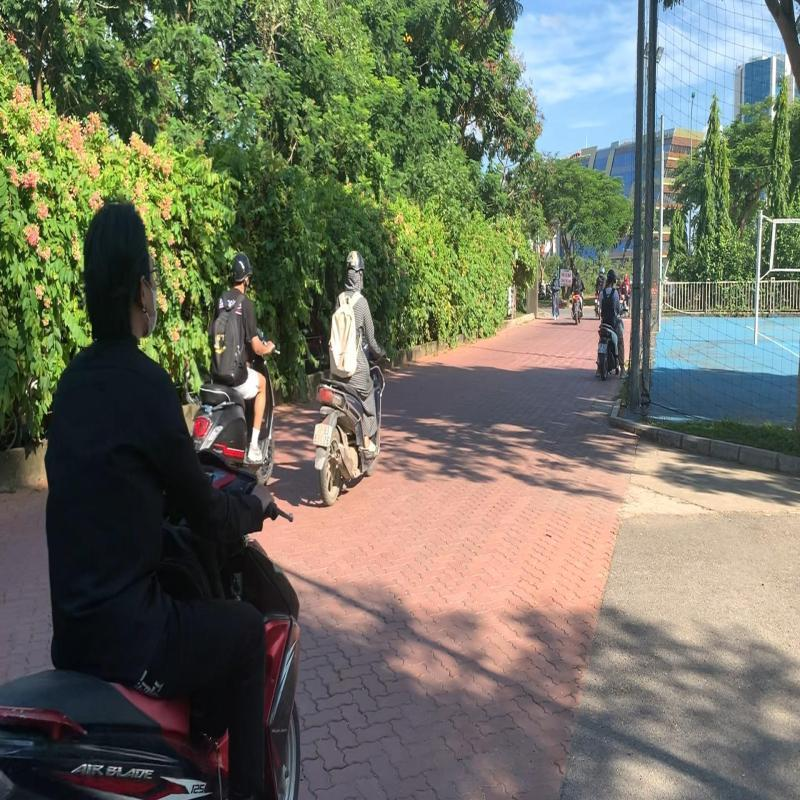nohelmet: (77, 190, 162, 347)
